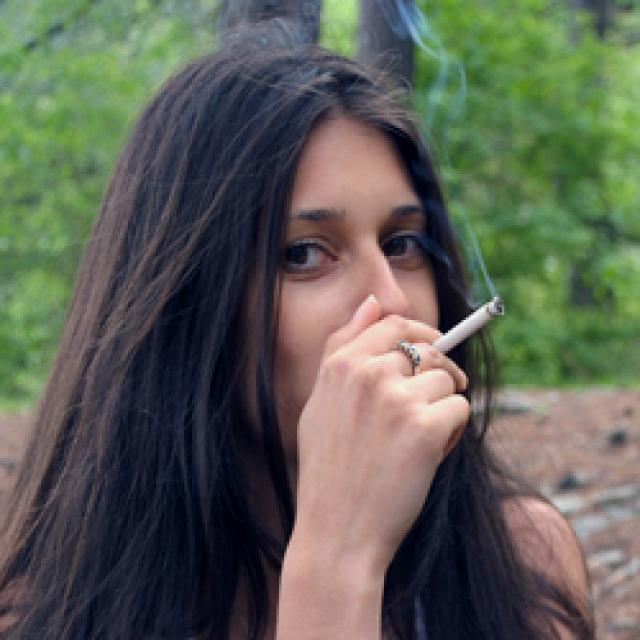Smooking: (445, 289, 529, 362)
